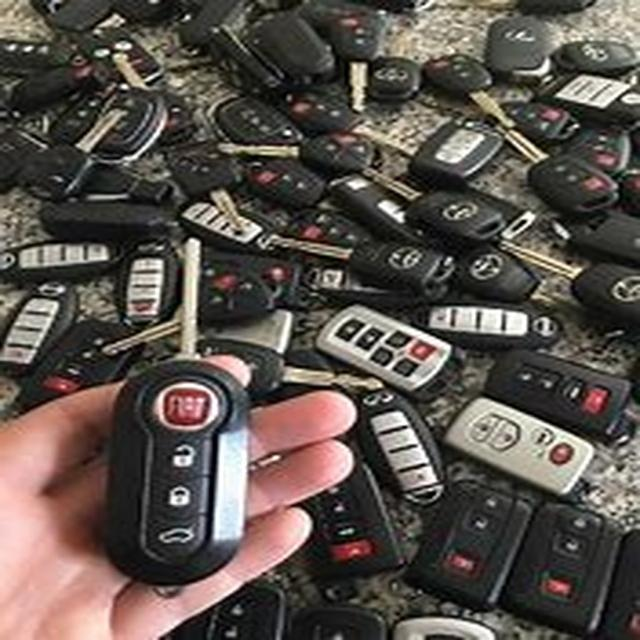key: (114, 236, 262, 590), (472, 330, 630, 448), (312, 289, 465, 407), (504, 468, 606, 630), (422, 460, 520, 616), (350, 158, 498, 251), (492, 120, 621, 220), (204, 127, 388, 178), (22, 94, 108, 198)
